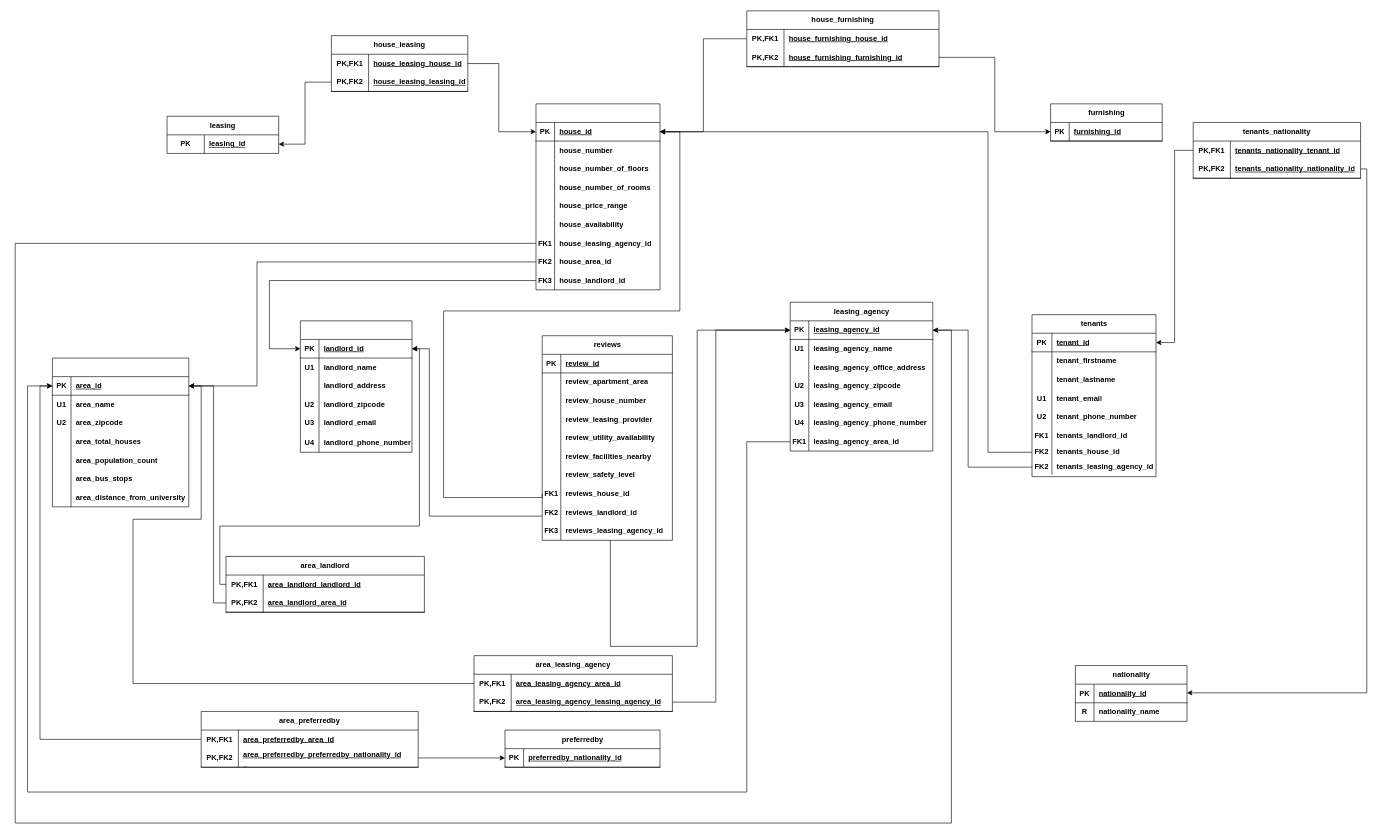
This 1383x839 diagram has some shape labels left out. Each missing label, with the box of its shape:
areas: (52, 357, 189, 507)
houses: (535, 103, 660, 290)
landlords: (300, 320, 412, 452)
